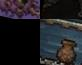crimera: (0, 0, 40, 19)
pot: (40, 24, 82, 65)
